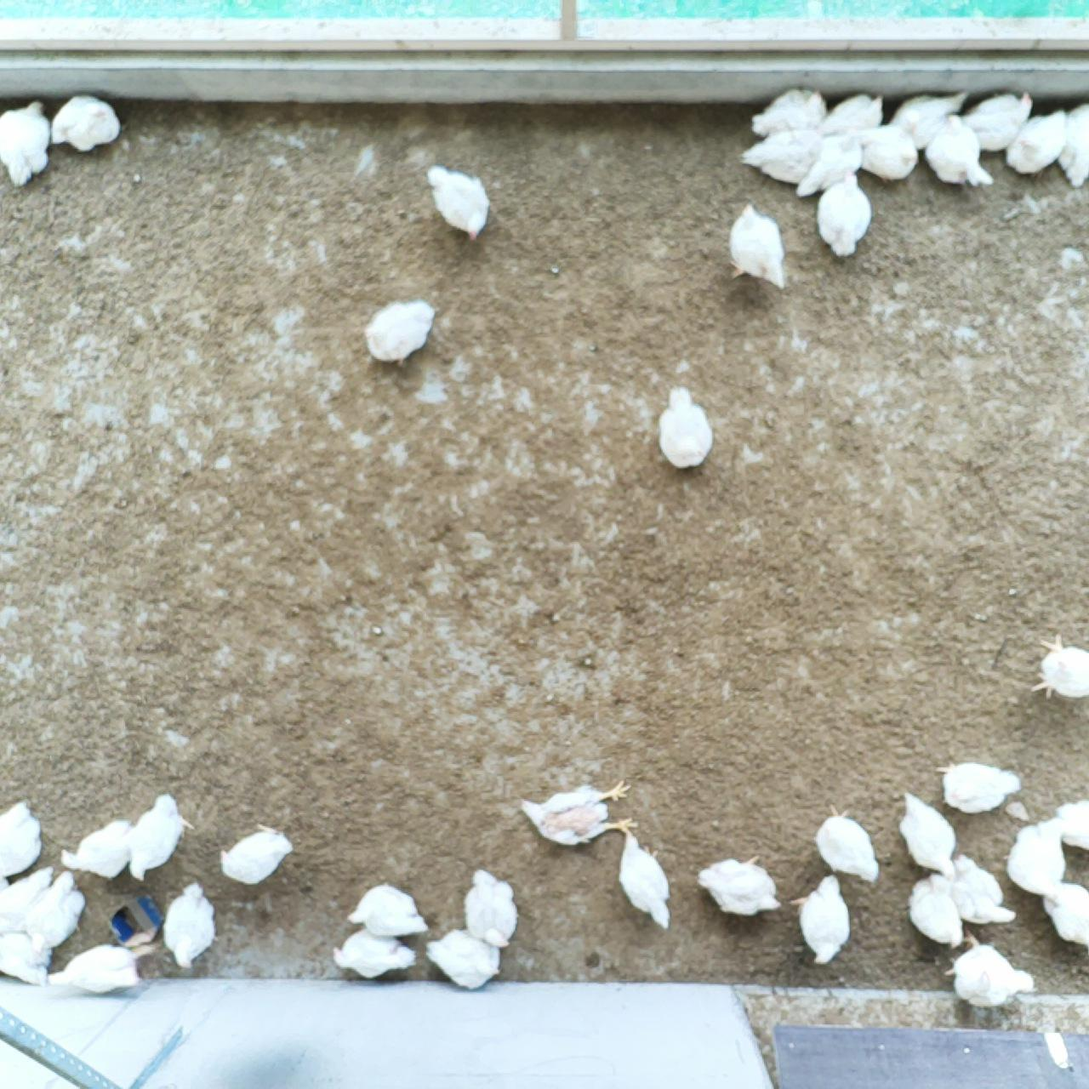chicken: (514, 778, 638, 849), (943, 928, 1036, 1010), (125, 791, 196, 885), (617, 827, 676, 934), (786, 874, 853, 966), (811, 801, 883, 886), (694, 852, 783, 919), (1005, 815, 1069, 908), (895, 789, 959, 881), (44, 943, 158, 994), (726, 200, 787, 294), (363, 296, 439, 371), (653, 382, 716, 472), (424, 163, 494, 244), (923, 113, 995, 191), (23, 869, 87, 956), (737, 129, 831, 188), (814, 169, 874, 259), (932, 757, 1023, 816), (946, 854, 1019, 926), (462, 866, 522, 953), (162, 880, 220, 970), (422, 928, 503, 992), (218, 821, 295, 888), (793, 128, 863, 199), (888, 89, 968, 151), (345, 879, 429, 938), (59, 816, 135, 881), (907, 869, 967, 951), (330, 928, 420, 982), (1002, 105, 1069, 177), (49, 93, 126, 155), (0, 99, 53, 188), (963, 90, 1035, 153), (1027, 629, 1089, 701), (749, 86, 829, 139), (857, 123, 921, 185), (0, 864, 58, 932), (0, 798, 43, 879), (1041, 880, 1089, 950), (817, 91, 887, 138), (0, 926, 52, 987), (1058, 100, 1089, 190), (1052, 795, 1089, 853)
